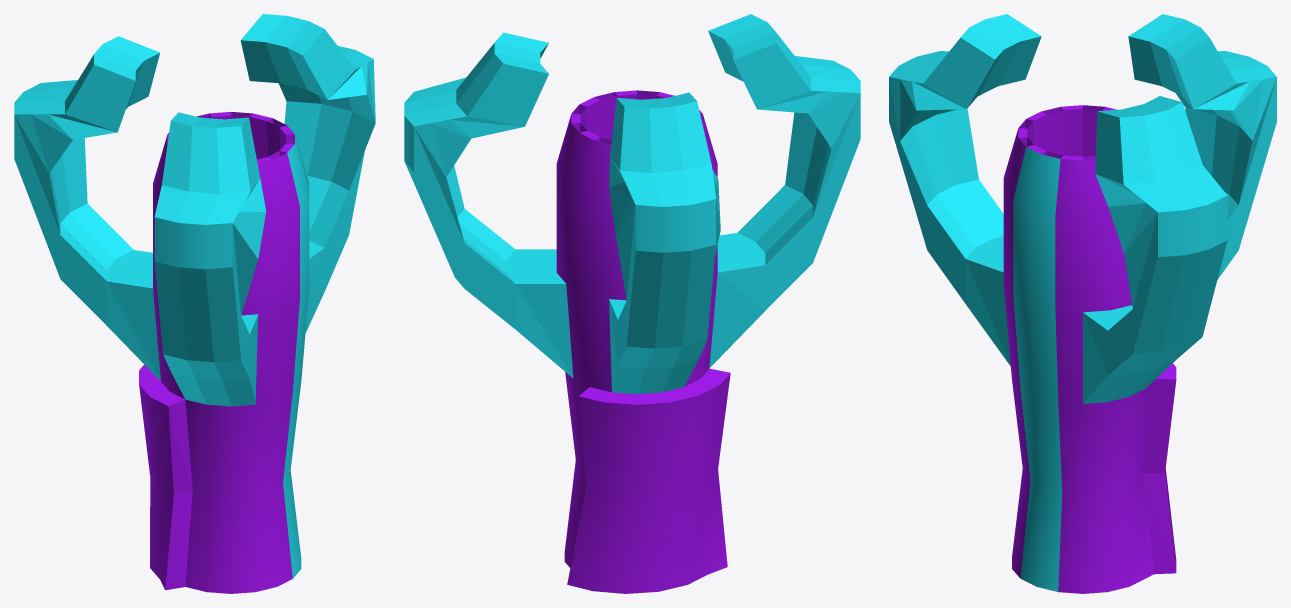
Rendered from Cañon.fbx.
The picture shows the model from 3 angles, left to right: view 1: azimuth 30°, elevation 25°; view 2: azimuth 150°, elevation 25°; view 3: azimuth 270°, elevation 25°; orthographic projection. The views are drawn at different scales.
Visible parts, largest first — view 1: Cylinder001; view 2: Cylinder001; view 3: Cylinder001.
Boxes of the visible parts, x1=… form: Cylinder001: x1=14, y1=14, x2=375, y2=593; Cylinder001: x1=404, y1=14, x2=860, y2=593; Cylinder001: x1=889, y1=14, x2=1276, y2=593.
Bounding box in the file's own units: 132 × 191 × 134.
